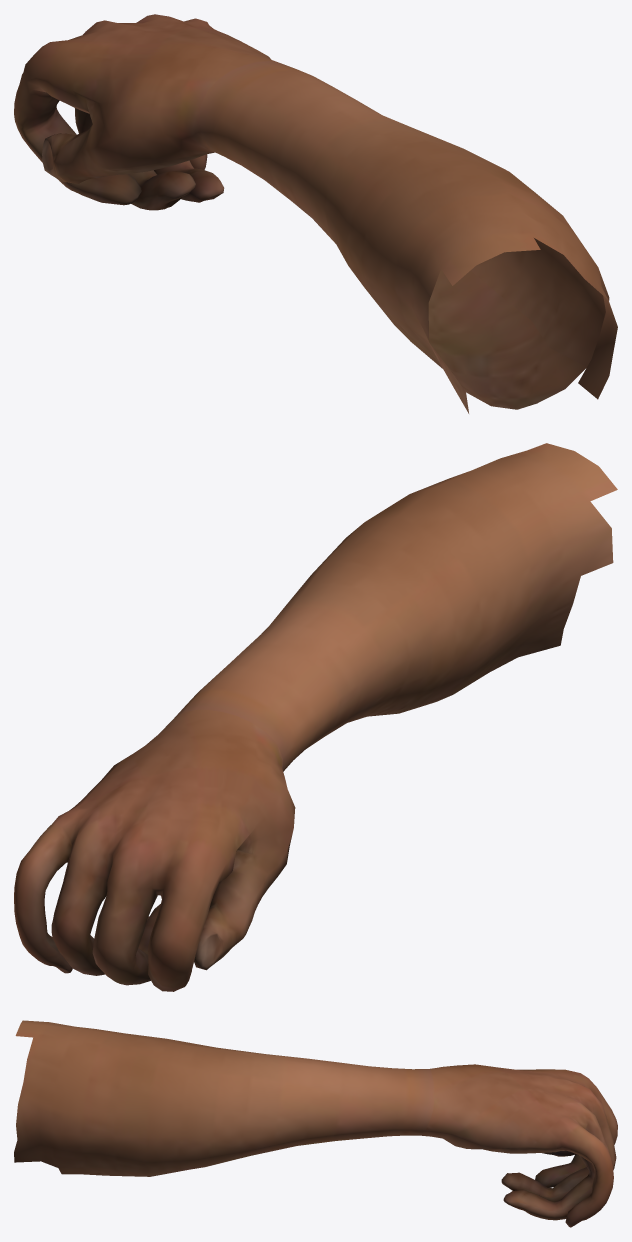
The model's file is vm_arm.glb.
3 renders of one model, top to bottom at view 1: azimuth 30°, elevation 25°; view 2: azimuth 150°, elevation 25°; view 3: azimuth 270°, elevation 25°, orthographic. The views are drawn at different scales.
Parts seen in each view (by area): view 1: vm_arm; view 2: vm_arm; view 3: vm_arm.
Part boxes in pixels (x1,y1,x2,y2): vm_arm: [14, 14, 617, 413]; vm_arm: [14, 443, 617, 991]; vm_arm: [14, 1020, 617, 1227].
Bounding box in the file's own units: 0.1163 × 0.1425 × 0.4531.
Materials: 1 (1 with a texture image).
